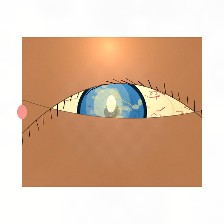corneal_ulcer: (81, 83, 136, 127)
